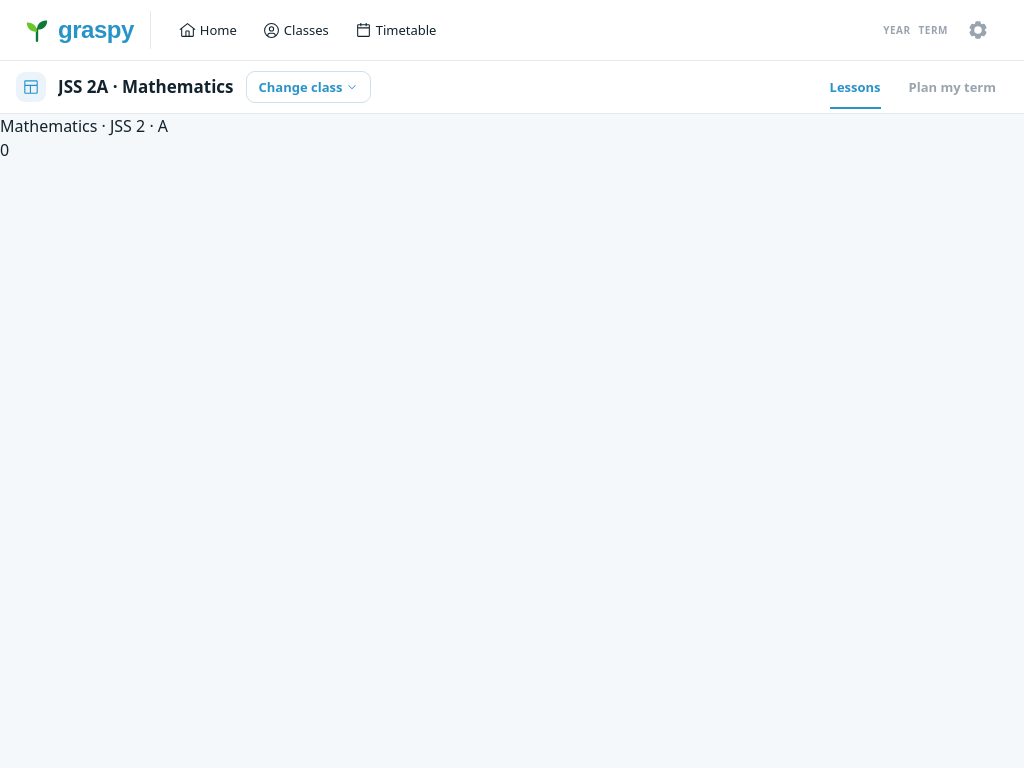
Test: AcademicWorkspaceShell › switches subject-class context without mixing the session or term
Click the button "Change class" at {"x": 308, "y": 87}, box [246,71,371,103]
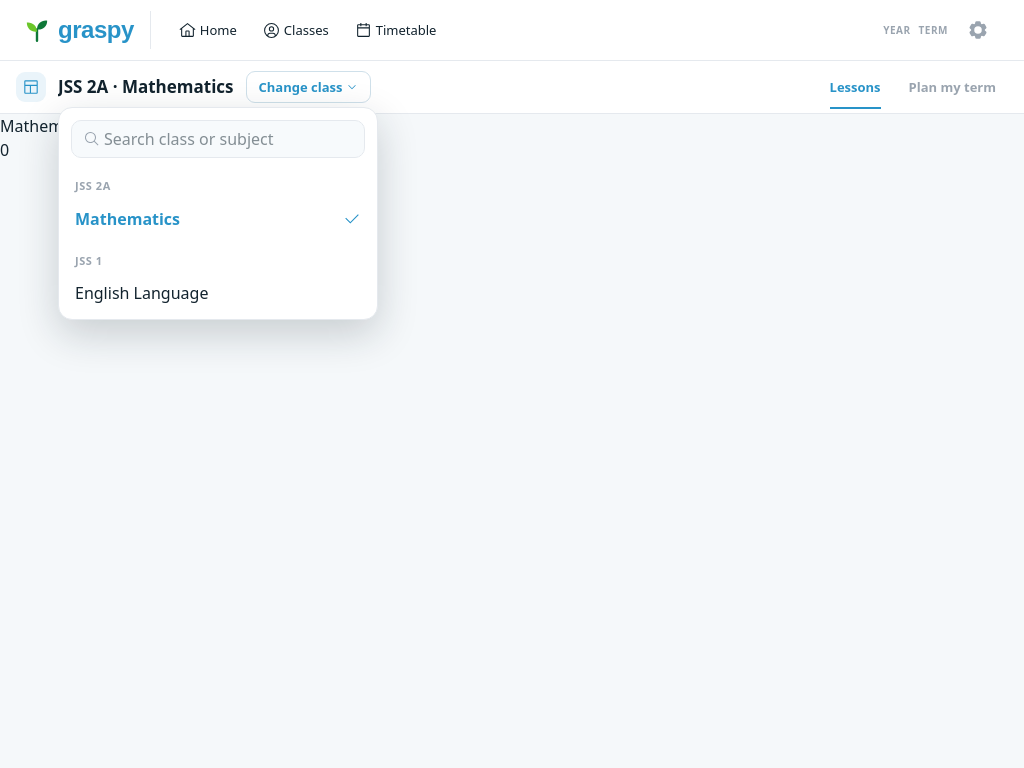
# The switcher groups by class, so the option carries the subject alone.
Click the button "English Language" at {"x": 142, "y": 293}, box [63,271,373,315]
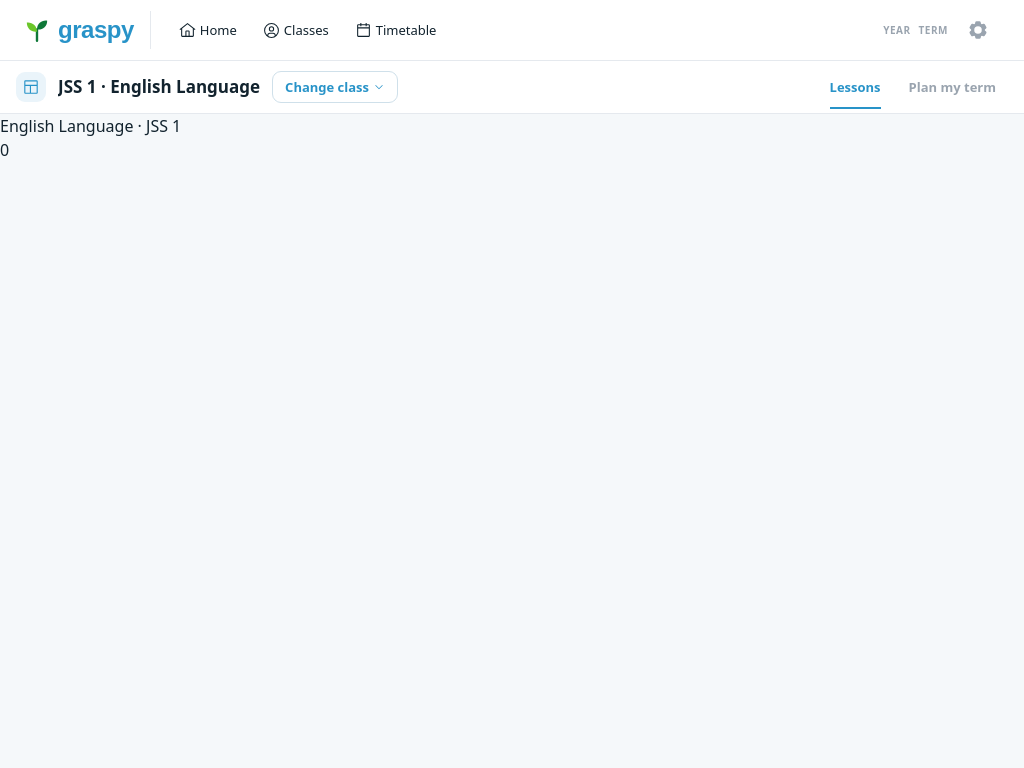
Result: the text with test id "active-class" reads "English Language · JSS 1" at [0,115,181,137]
